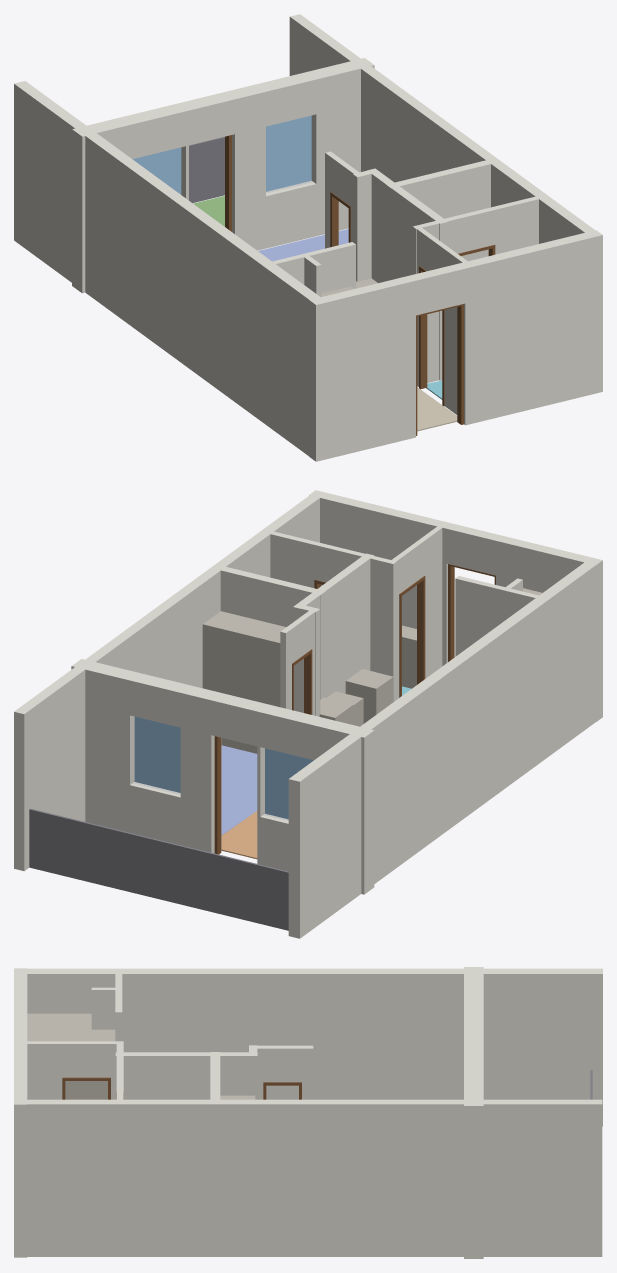
3 views of the same model, one above another, from view 1: azimuth 30°, elevation 25°; view 2: azimuth 150°, elevation 25°; view 3: azimuth 270°, elevation 25° (orthographic). The views are drawn at different scales.
Visible parts, largest first — view 1: walls, window_1, railings, window_2, door_3, floor_4_Entry, floor_2_Bed_Room, door_5, door_0, door_6; view 2: walls, railings, furniture_0_closet, window_1, floor_2_Bed_Room, window_2, furniture_3_appliance, door_5, floor_1_Living_Room, door_0, furniture_9_sink, door_3 (+2 smaller); view 3: walls, furniture_1_closet.
Part boxes in pixels (bbox=[...]): walls: bbox=[14, 14, 602, 461]; window_1: bbox=[266, 115, 311, 191]; railings: bbox=[189, 136, 224, 203]; window_2: bbox=[132, 147, 181, 194]; door_3: bbox=[416, 304, 463, 435]; floor_4_Entry: bbox=[417, 387, 457, 431]; floor_2_Bed_Room: bbox=[258, 229, 348, 261]; door_5: bbox=[419, 266, 444, 406]; door_0: bbox=[225, 135, 231, 231]; door_6: bbox=[330, 192, 350, 247]; walls: bbox=[14, 490, 602, 938]; railings: bbox=[29, 808, 288, 930]; furniture_0_closet: bbox=[202, 611, 286, 753]; window_1: bbox=[134, 716, 180, 792]; floor_2_Bed_Room: bbox=[221, 745, 257, 835]; window_2: bbox=[265, 748, 313, 819]; furniture_3_appliance: bbox=[345, 669, 393, 723]; door_5: bbox=[399, 576, 425, 697]; floor_1_Living_Room: bbox=[221, 811, 257, 859]; door_0: bbox=[214, 736, 221, 854]; furniture_9_sink: bbox=[402, 625, 416, 688]; door_3: bbox=[448, 564, 495, 661]; walls: bbox=[14, 967, 602, 1258]; furniture_1_closet: bbox=[27, 1013, 115, 1099].
Bounding box in the file's own units: 5.27 × 2.72 × 9.44.
